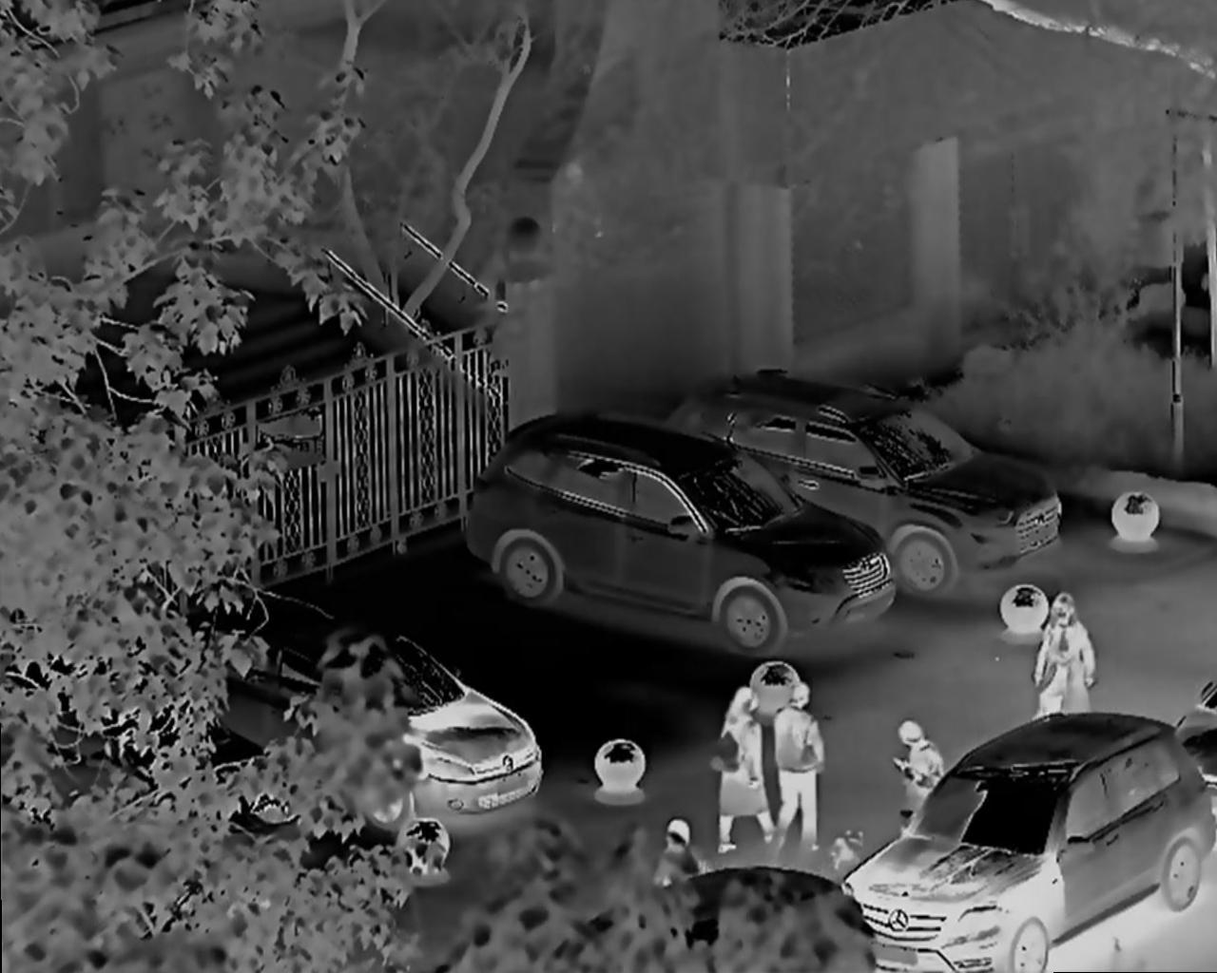person: (1034, 588, 1097, 746), (889, 711, 948, 849), (777, 677, 816, 862), (724, 687, 761, 838), (656, 815, 686, 968)
